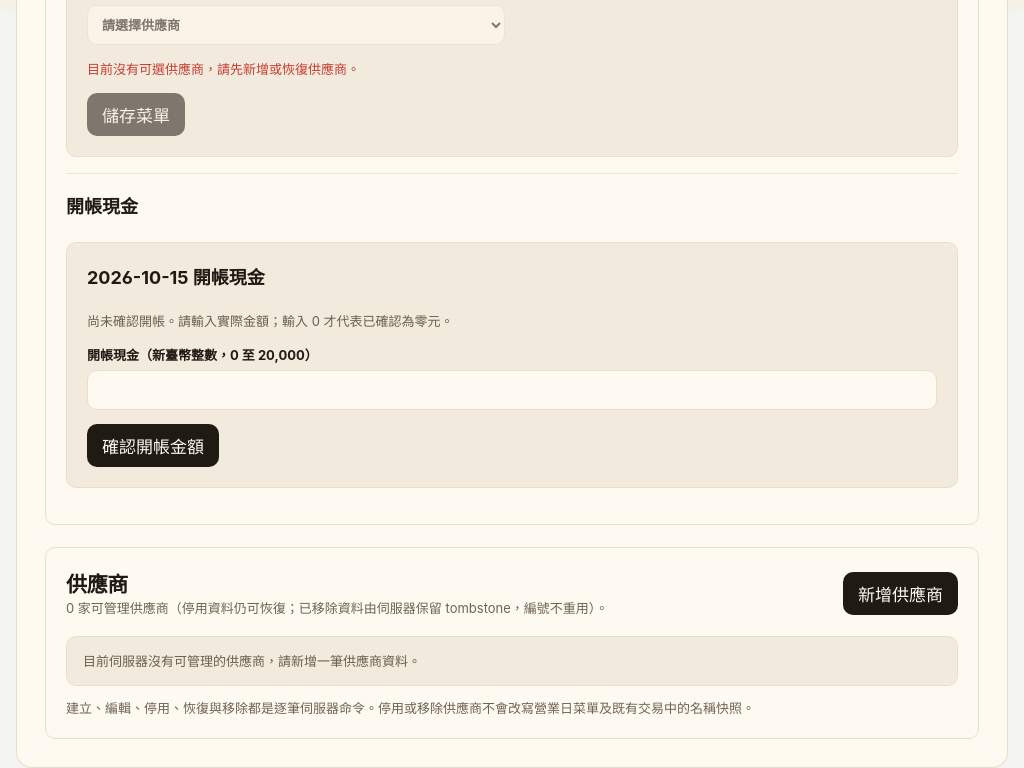
CloudDayVendorsPage › requires explicit opening input and sends zero distinctly from unconfirmed null
(page scrolled)
Click the button "確認開帳金額" at (153, 446), box 87,424 -> 219,467
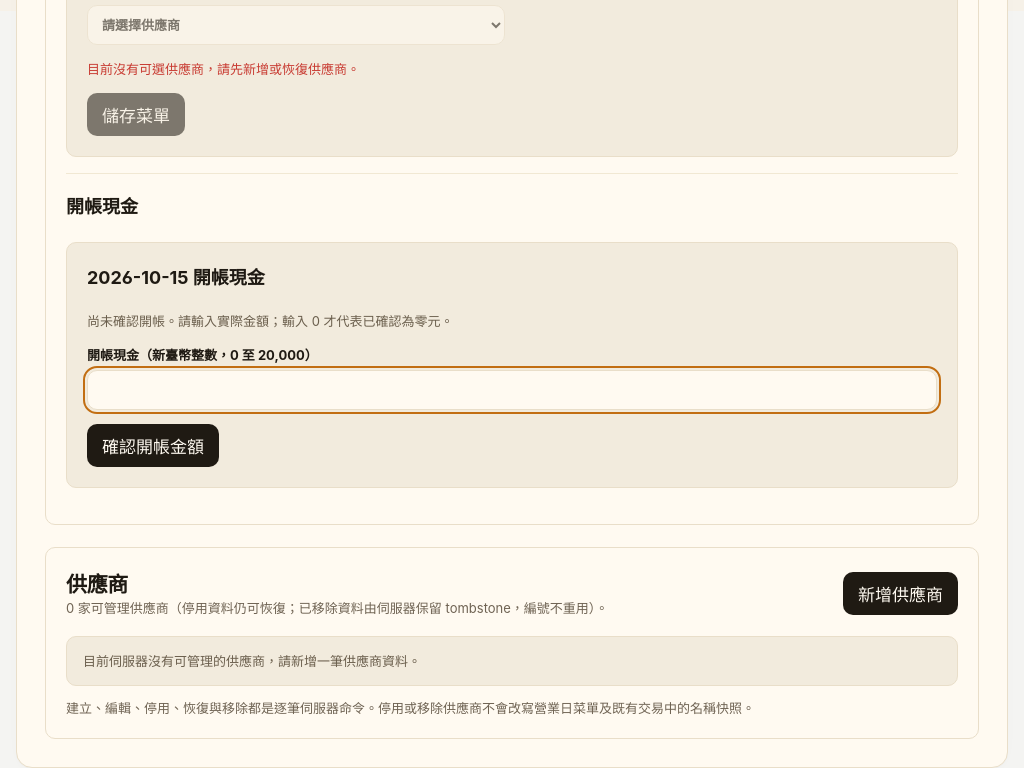
Type "0" into the field labelled "開帳現金（新臺幣整數，0 至 20,000）" at (512, 390), box 87,370 -> 937,410
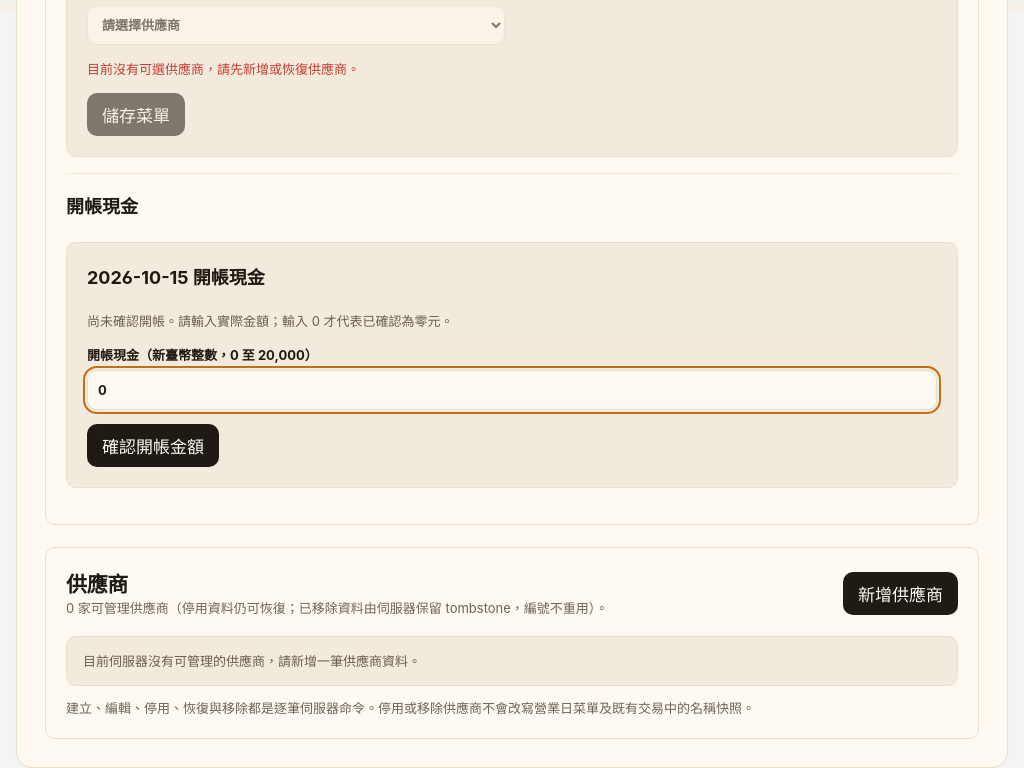
Click the button "確認開帳金額" at (153, 446), box 87,424 -> 219,467
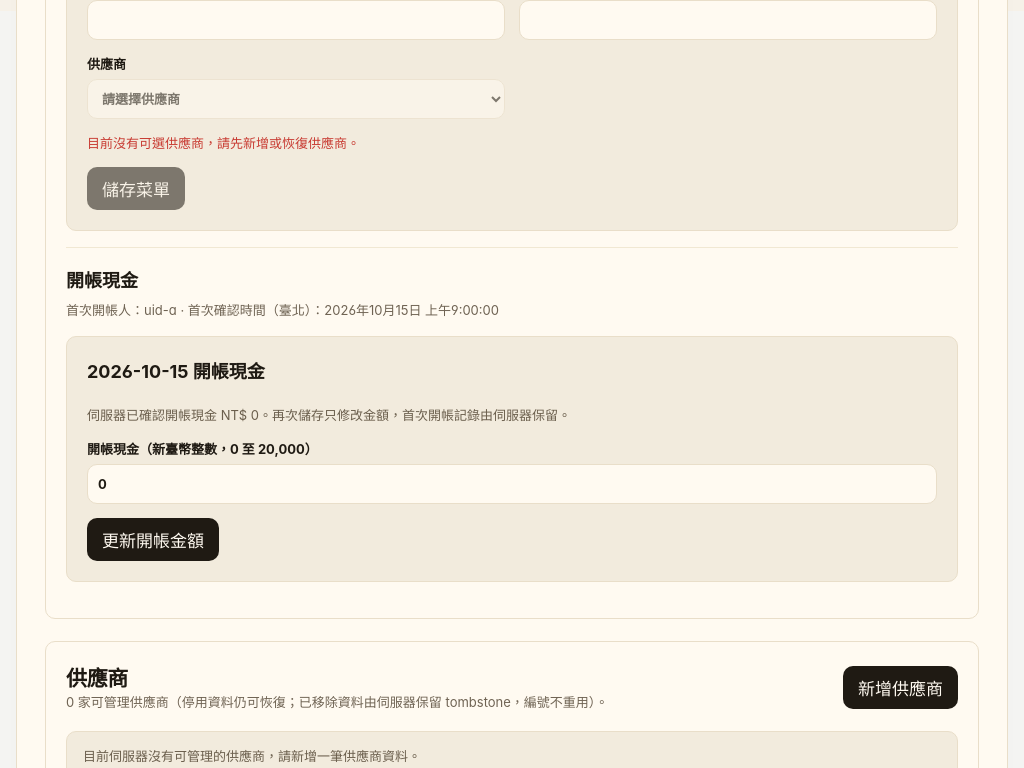
Check: the text "首次開帳人：uid-a" is shown, box 66,300 -> 499,320
Check: the text "伺服器已確認開帳現金 NT$ 0。再次儲存只修改金額，首次開帳記錄由伺服器保留。" is shown, box 87,407 -> 571,423
